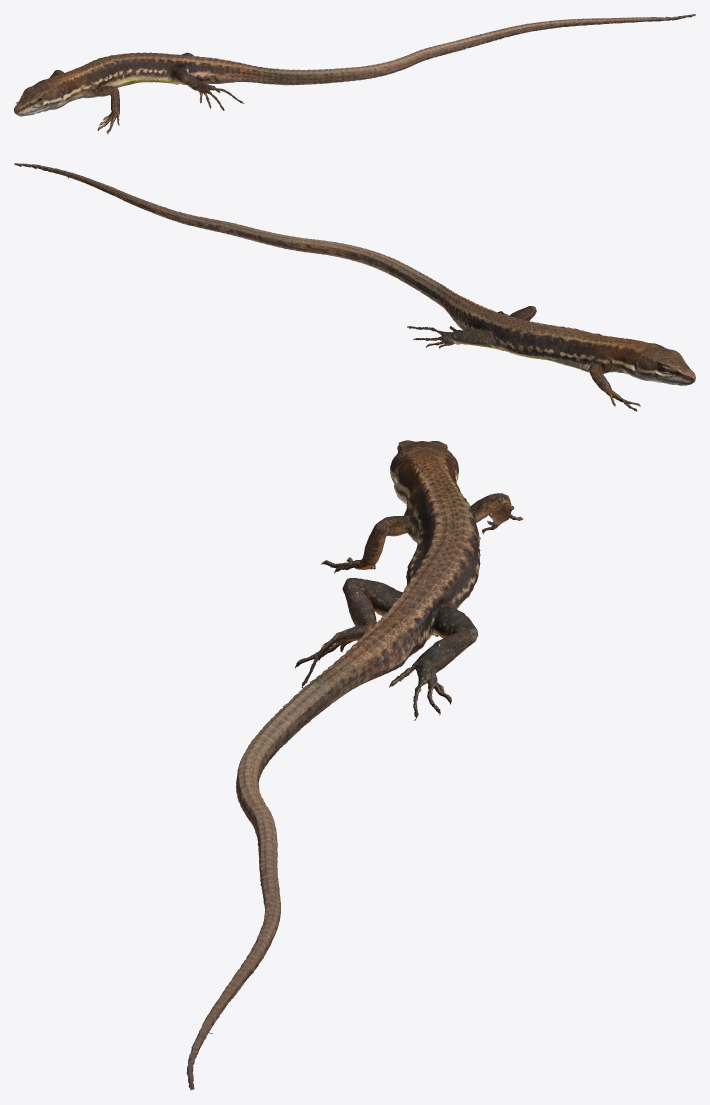
File: lizard-touch.glb
3 views of the same model, one above another, from view 1: azimuth 30°, elevation 25°; view 2: azimuth 150°, elevation 25°; view 3: azimuth 270°, elevation 25° (orthographic). The views are drawn at different scales.
Parts seen in each view (by area): view 1: Object_6, Object_11; view 2: Object_6, Object_11; view 3: Object_6, Object_11.
Part boxes in pixels (box(x1,y1,x2,y2)): Object_6: box(14, 52, 279, 134); Object_11: box(274, 14, 695, 85); Object_6: box(407, 285, 695, 411); Object_11: box(14, 163, 444, 300); Object_6: box(295, 440, 523, 720); Object_11: box(186, 678, 332, 1090).
Bounding box in the file's own units: 0.9999 × 0.0686 × 0.2335.
Materials: 2 (2 with a texture image).
